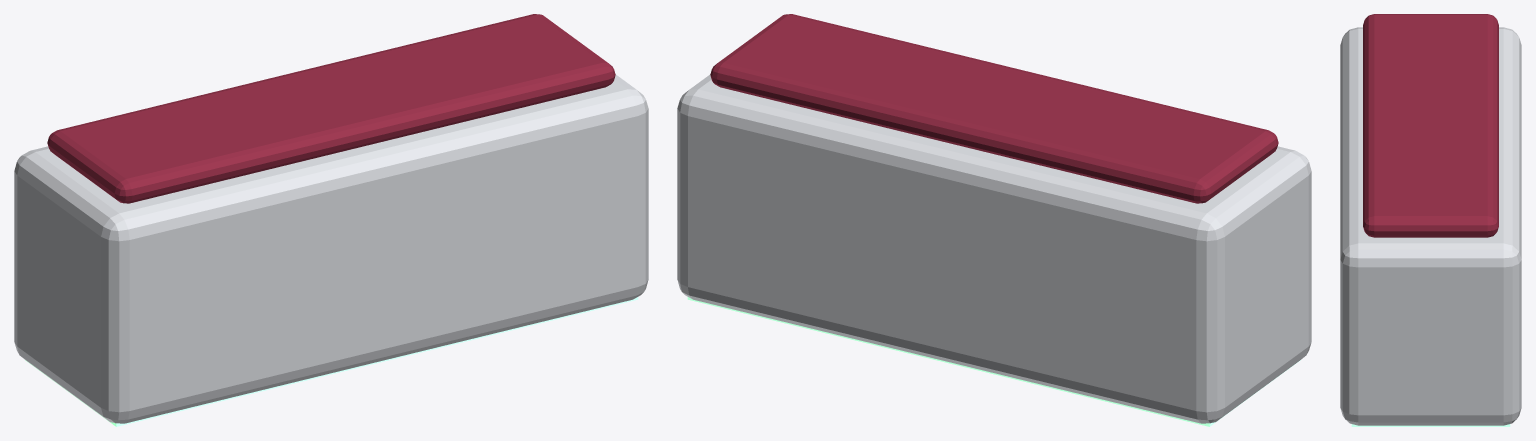
Rendered from bench_lit_block.glb.
3 renders of one model, left to right at view 1: azimuth 30°, elevation 25°; view 2: azimuth 150°, elevation 25°; view 3: azimuth 270°, elevation 25°, orthographic. The views are drawn at different scales.
Parts seen in each view (by area): view 1: GD_bench_lit_block__m0, GD_bench_lit_block__m2, GD_bench_lit_block__m1; view 2: GD_bench_lit_block__m0, GD_bench_lit_block__m2, GD_bench_lit_block__m1; view 3: GD_bench_lit_block__m0, GD_bench_lit_block__m2, GD_bench_lit_block__m1.
Part boxes in pixels (x1,y1,x2,y2): GD_bench_lit_block__m0: (14,74,648,423); GD_bench_lit_block__m2: (47,14,615,203); GD_bench_lit_block__m1: (25,297,638,426); GD_bench_lit_block__m0: (677,74,1311,423); GD_bench_lit_block__m2: (710,14,1278,203); GD_bench_lit_block__m1: (687,297,1300,426); GD_bench_lit_block__m0: (1340,27,1521,425); GD_bench_lit_block__m2: (1363,14,1498,237); GD_bench_lit_block__m1: (1351,424,1510,426).
Bounding box in the file's own units: 1.2 × 0.49 × 0.4.
